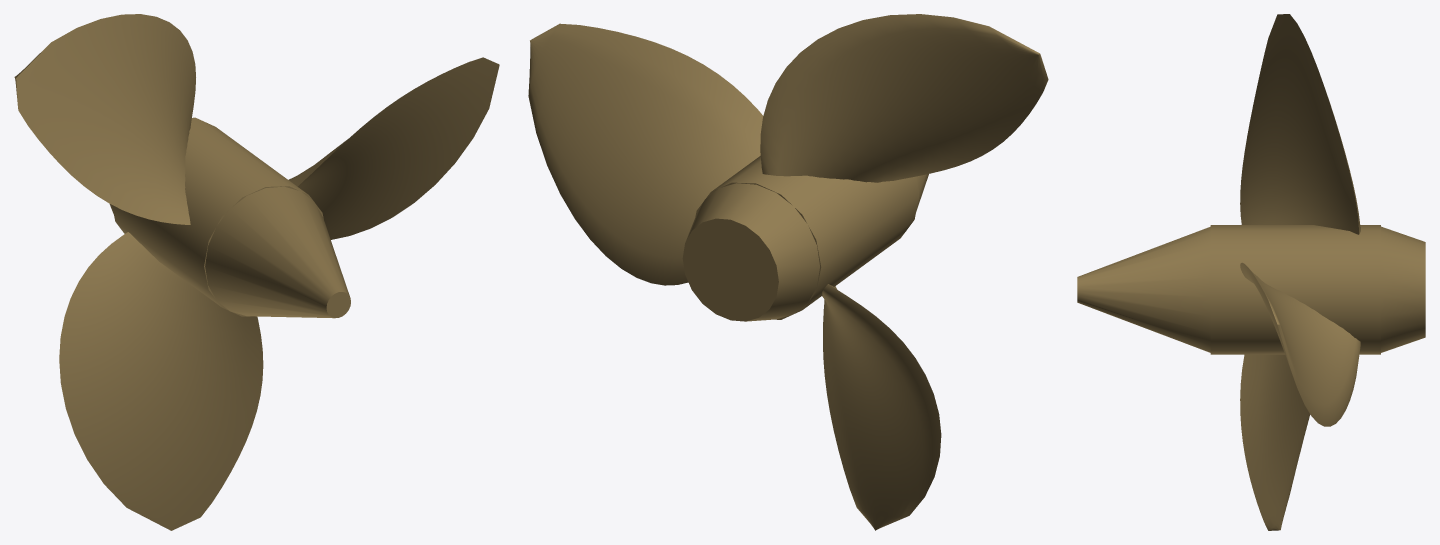
The model's file is propellerStarboard.obj.
3 views of the same model, side by side, from view 1: azimuth 30°, elevation 25°; view 2: azimuth 150°, elevation 25°; view 3: azimuth 270°, elevation 25° (orthographic). The views are drawn at different scales.
Visible parts, largest first — view 1: propellerStarboard; view 2: propellerStarboard; view 3: propellerStarboard.
Boxes of the visible parts, x1,y1,x2,y2 form: propellerStarboard: [14, 14, 499, 530]; propellerStarboard: [528, 14, 1048, 530]; propellerStarboard: [1077, 14, 1425, 530].
Size of the model in its own units: 1.38 by 1.4 by 0.94.
